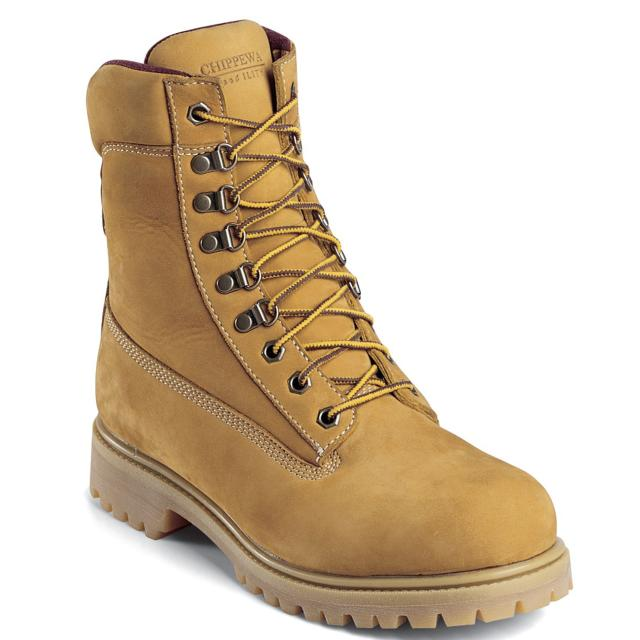boot: (56, 12, 586, 627)
